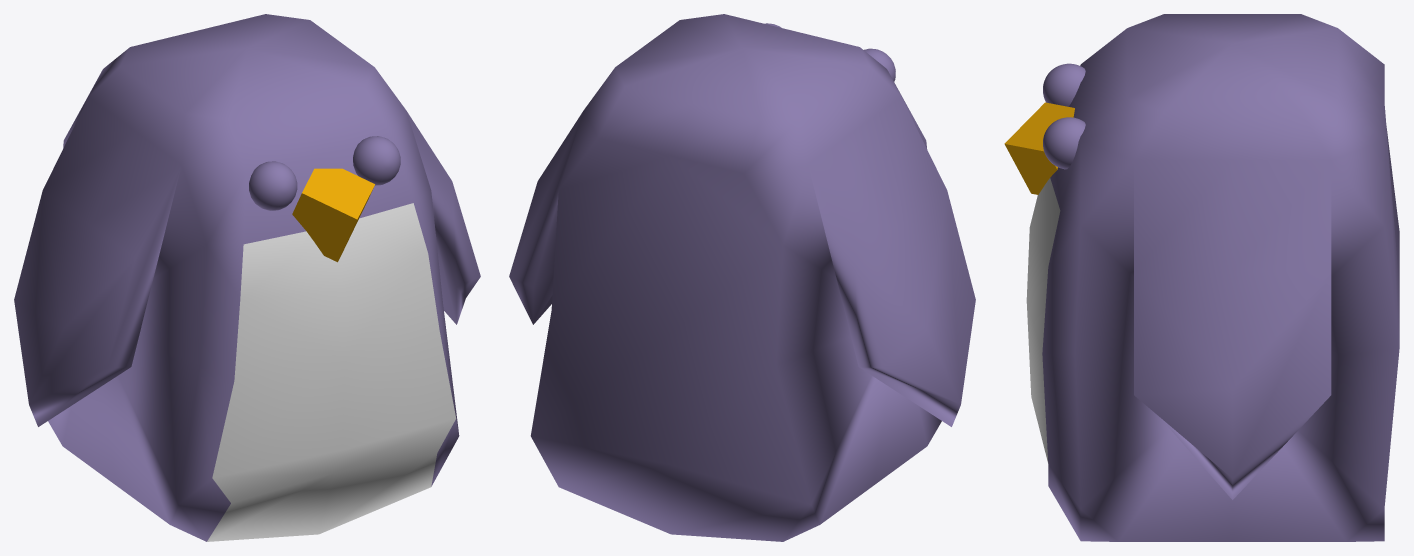
Rendered from Penguin.fbx.
3 renders of one model, left to right at view 1: azimuth 30°, elevation 25°; view 2: azimuth 150°, elevation 25°; view 3: azimuth 270°, elevation 25°, orthographic. The views are drawn at different scales.
Visible parts, largest first — view 1: pSphere3; view 2: pSphere3; view 3: pSphere3.
Part boxes in pixels (bbox=[...]): pSphere3: bbox=[14, 14, 480, 541]; pSphere3: bbox=[509, 14, 975, 541]; pSphere3: bbox=[1004, 14, 1399, 541].
Size of the model in its own units: 3.4 by 3.22 by 2.51.
